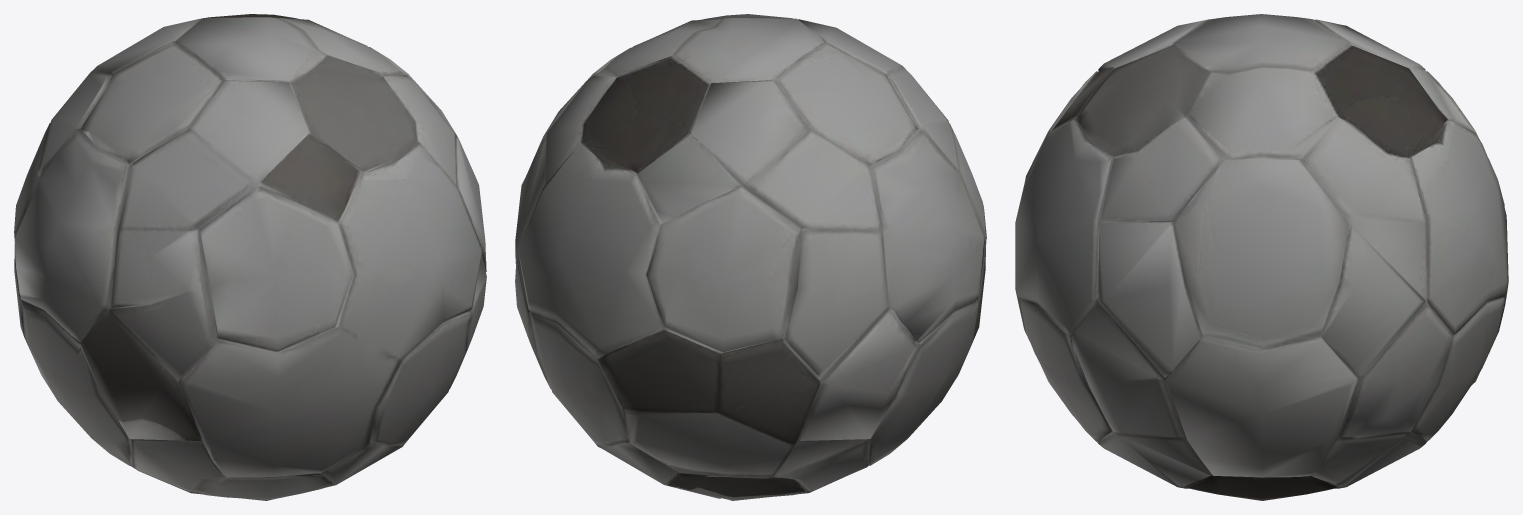
The model's file is vale_cup_ball.glb.
3 views of the same model, side by side, from view 1: azimuth 30°, elevation 25°; view 2: azimuth 150°, elevation 25°; view 3: azimuth 270°, elevation 25° (orthographic). The views are drawn at different scales.
Parts seen in each view (by area): view 1: tripo_node_0630dc7a-f55c-4c00-af5d-b2587b04c16f; view 2: tripo_node_0630dc7a-f55c-4c00-af5d-b2587b04c16f; view 3: tripo_node_0630dc7a-f55c-4c00-af5d-b2587b04c16f.
Part boxes in pixels (x1=…): tripo_node_0630dc7a-f55c-4c00-af5d-b2587b04c16f: x1=14, y1=14, x2=486, y2=500; tripo_node_0630dc7a-f55c-4c00-af5d-b2587b04c16f: x1=515, y1=14, x2=986, y2=500; tripo_node_0630dc7a-f55c-4c00-af5d-b2587b04c16f: x1=1015, y1=14, x2=1508, y2=500.
Bounding box in the file's own units: 0.9608 × 0.98 × 0.98.
Materials: 1 (1 with a texture image).
